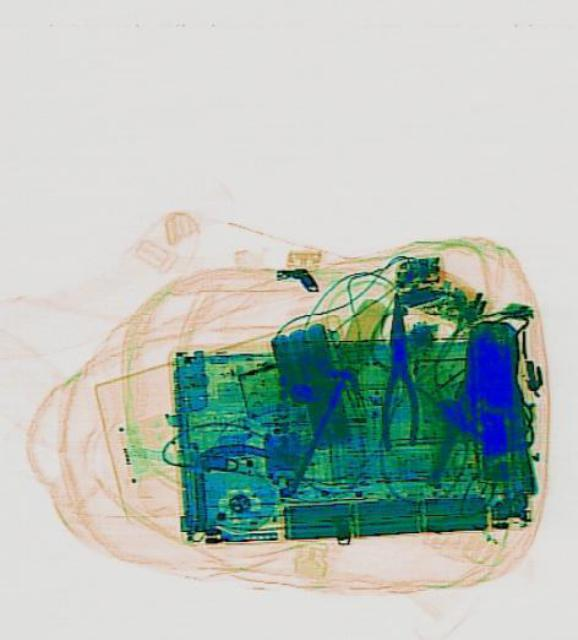Pliers: (373, 290, 418, 450)
